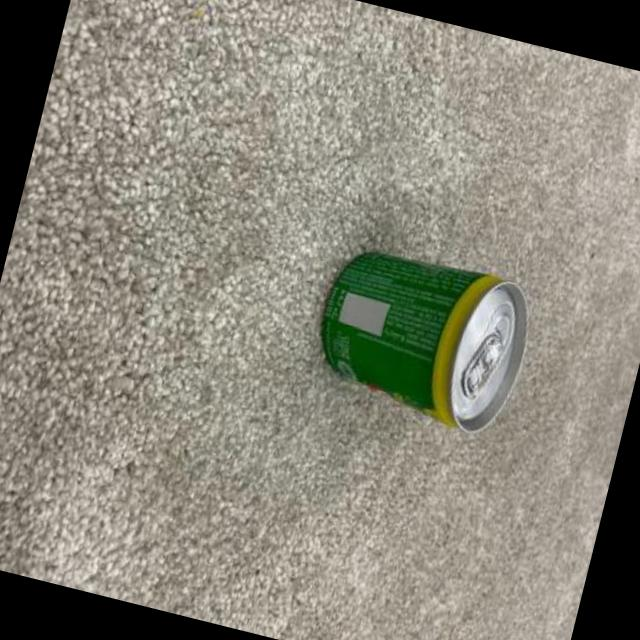metal: (325, 254, 529, 434)
